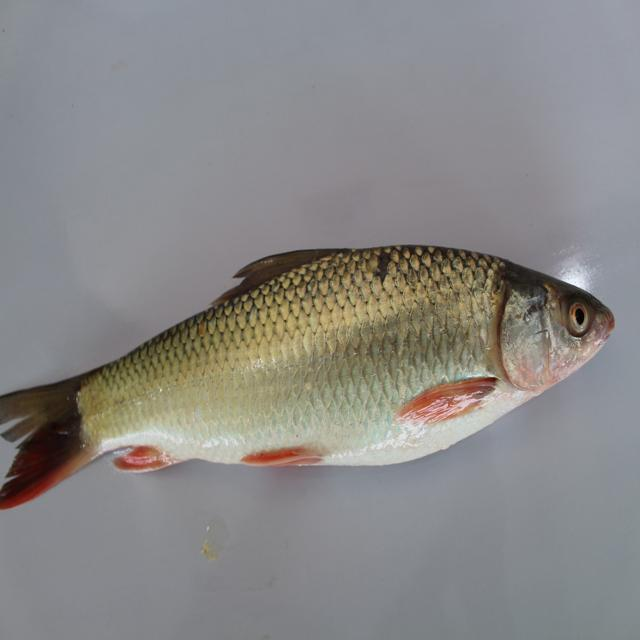Grass Carp: (5, 237, 617, 488)
